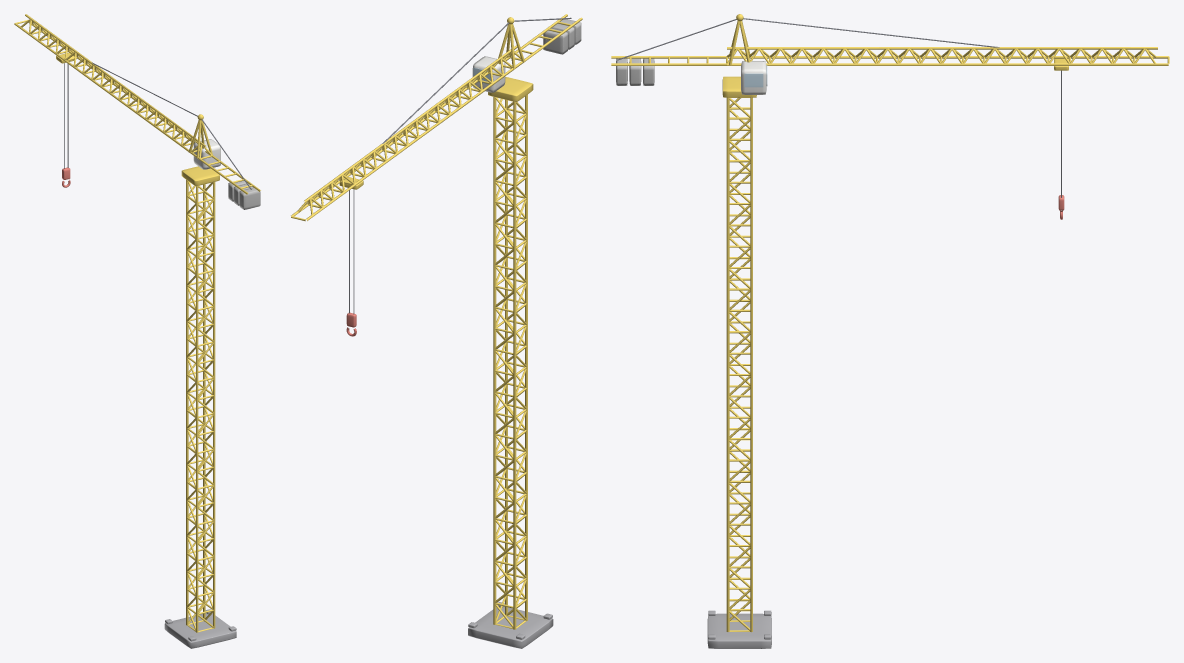
The model's file is SkyStackCrane.glb.
3 renders of one model, left to right at view 1: azimuth 30°, elevation 25°; view 2: azimuth 150°, elevation 25°; view 3: azimuth 270°, elevation 25°, orthographic. The views are drawn at different scales.
Parts seen in each view (by area): view 1: Mast, Jib, Footing, Counter, Cable, Cab; view 2: Mast, Jib, Footing, Counter, Cable, Cab; view 3: Mast, Jib, Footing, Counter, Cable.
Boxes of the visible parts, x1=… form: Mast: x1=186, y1=114, x2=215, y2=632; Jib: x1=14, y1=14, x2=260, y2=194; Footing: x1=164, y1=609, x2=236, y2=648; Counter: x1=228, y1=180, x2=260, y2=209; Cable: x1=64, y1=62, x2=251, y2=189; Cab: x1=193, y1=139, x2=220, y2=169; Mast: x1=493, y1=17, x2=527, y2=629; Jib: x1=291, y1=14, x2=582, y2=221; Footing: x1=468, y1=602, x2=553, y2=648; Counter: x1=543, y1=19, x2=581, y2=54; Cable: x1=349, y1=17, x2=571, y2=314; Cab: x1=472, y1=56, x2=505, y2=92; Mast: x1=726, y1=14, x2=752, y2=632; Jib: x1=611, y1=47, x2=1169, y2=97; Footing: x1=707, y1=610, x2=771, y2=648; Counter: x1=616, y1=58, x2=654, y2=85; Cable: x1=617, y1=18, x2=1061, y2=197.
Size of the model in its own units: 6 by 64 by 52.1.
